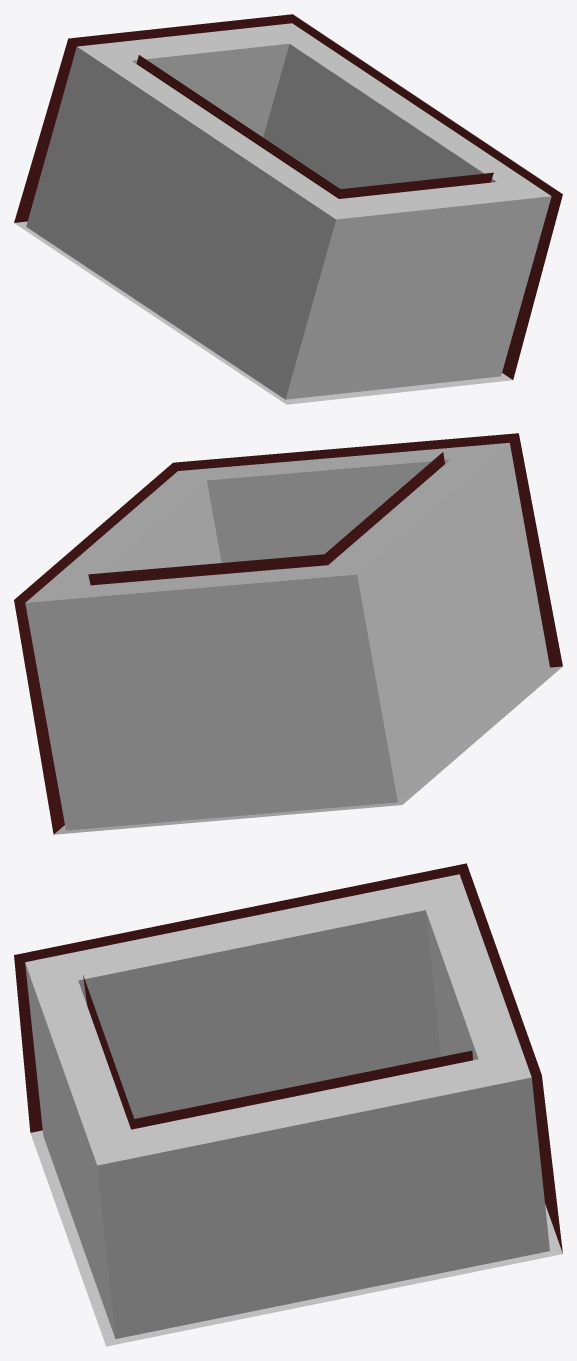
Rendered from ContainerFloating.gltf.
The picture shows the model from 3 angles, top to bottom: view 1: azimuth 30°, elevation 25°; view 2: azimuth 150°, elevation 25°; view 3: azimuth 270°, elevation 25°; orthographic projection. The views are drawn at different scales.
Visible parts, largest first — view 1: Cube.026_TT_checker_2_0, Cube.026_Line art _Red_0; view 2: Cube.026_TT_checker_2_0, Cube.026_Line art _Red_0; view 3: Cube.026_TT_checker_2_0, Cube.026_Line art _Red_0.
Boxes of the visible parts, left/top/right/bottom form: Cube.026_TT_checker_2_0: left=14, top=23, right=551, bottom=404; Cube.026_Line art _Red_0: left=14, top=14, right=562, bottom=379; Cube.026_TT_checker_2_0: left=25, top=443, right=562, bottom=834; Cube.026_Line art _Red_0: left=14, top=433, right=562, bottom=834; Cube.026_TT_checker_2_0: left=25, top=874, right=562, bottom=1346; Cube.026_Line art _Red_0: left=14, top=863, right=562, bottom=1253.
Size of the model in its own units: 0.7064 by 0.5329 by 0.808.
